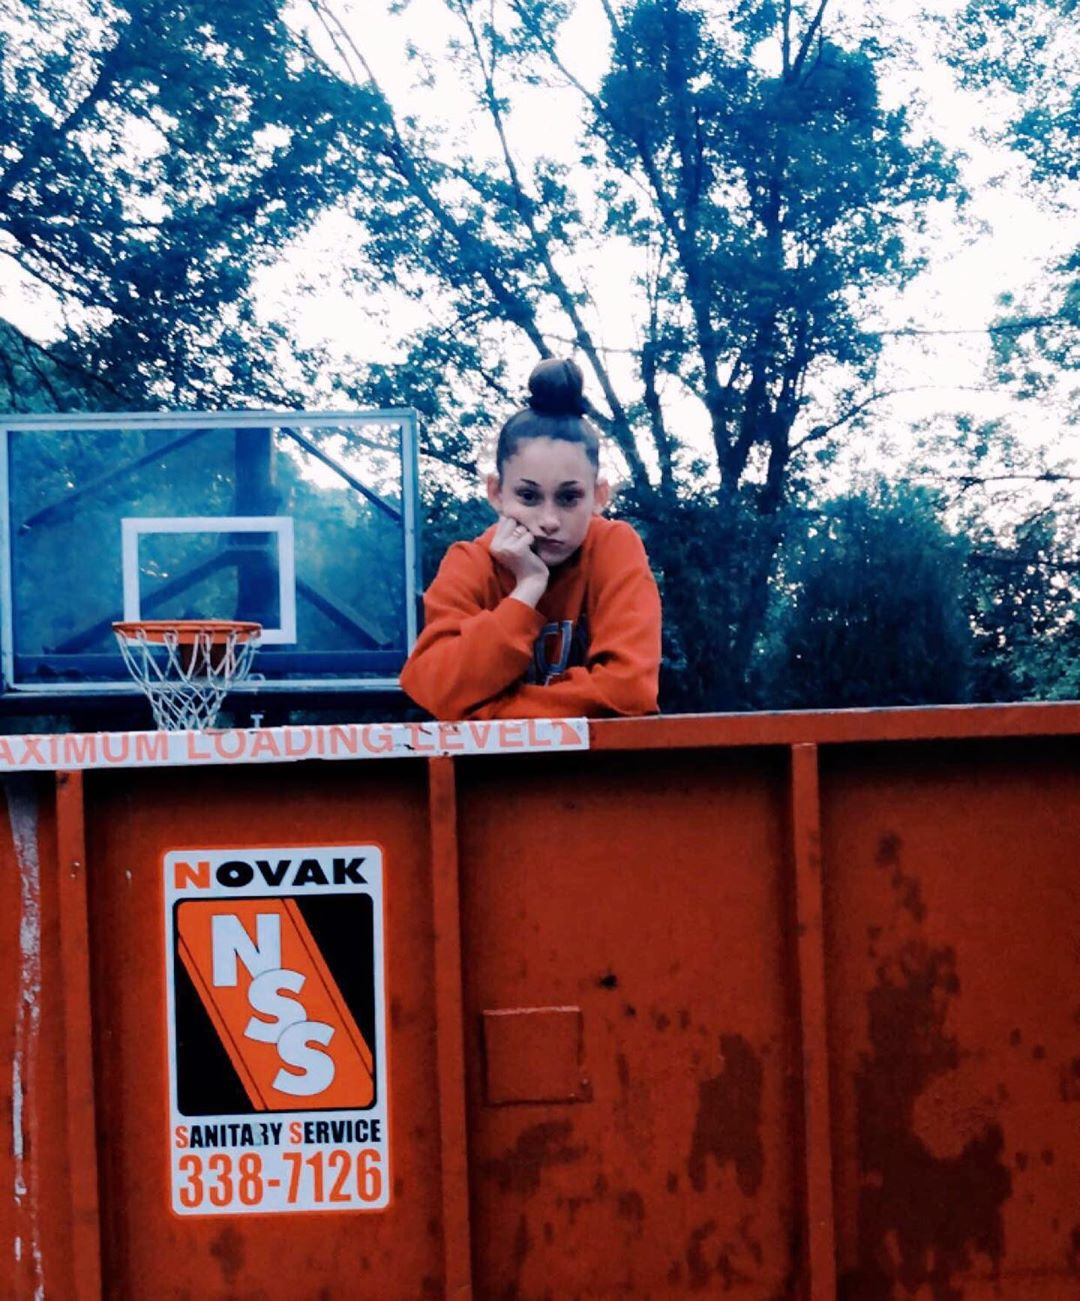Person: (385, 355, 702, 756)
